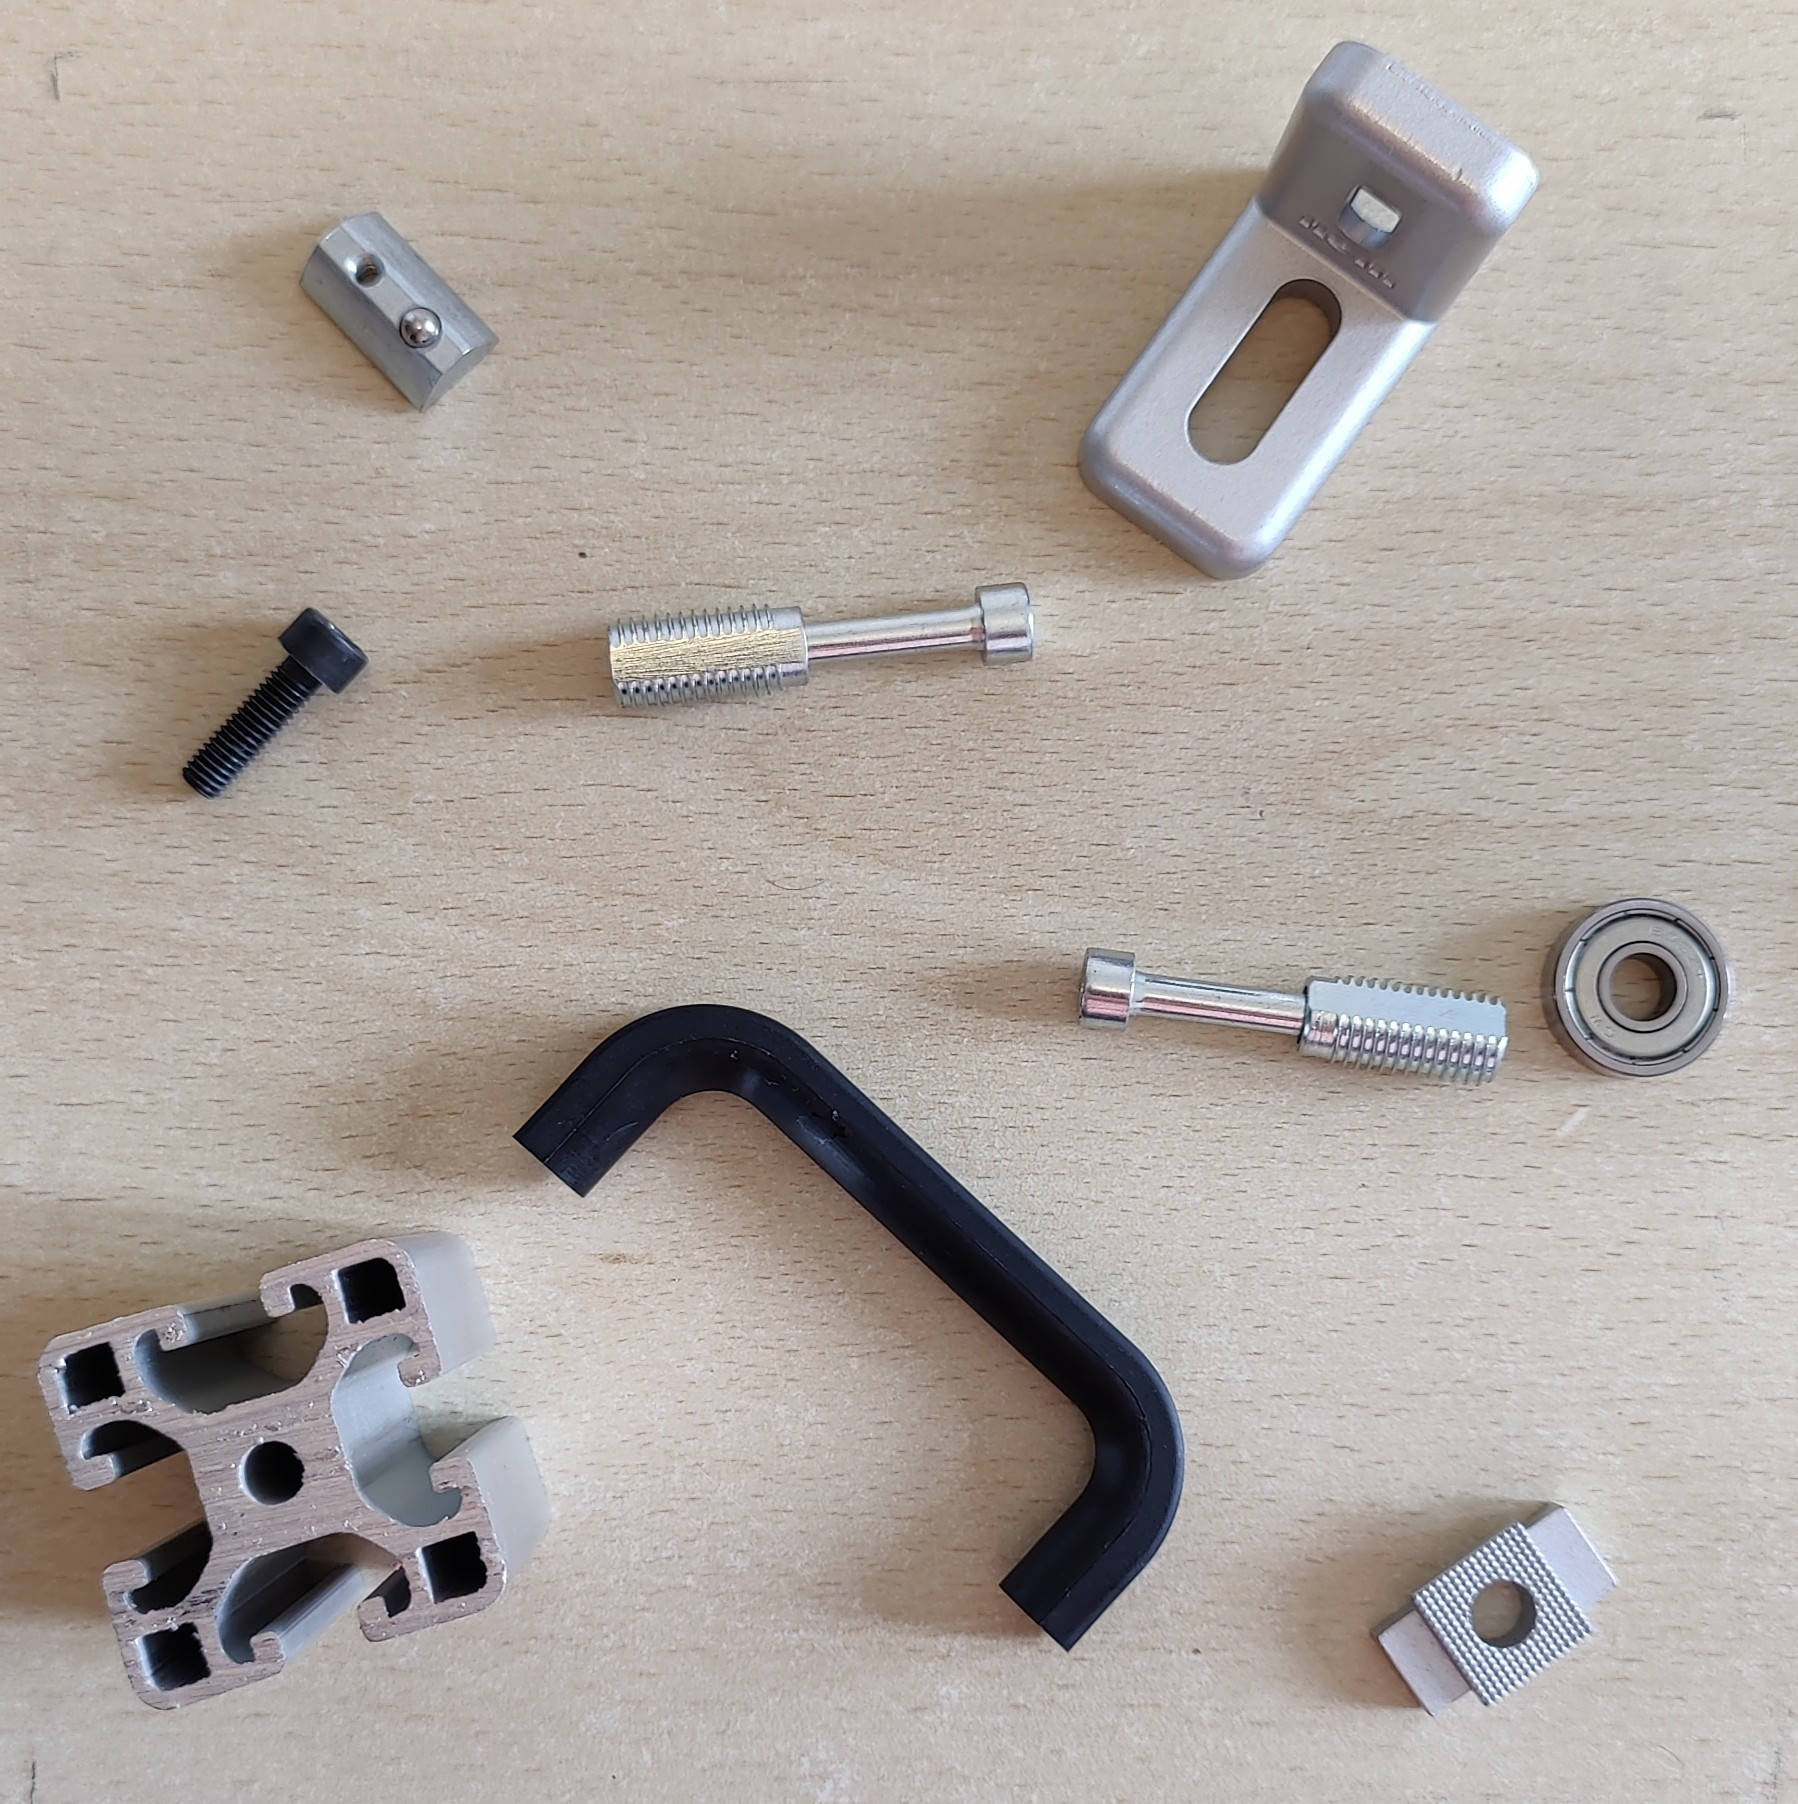Aluminium Extension: (35, 1230, 552, 1713)
Ball Bearing: (1539, 897, 1732, 1081)
Multiwinkel: (1077, 40, 1543, 584)
Pull Handle: (510, 1001, 1187, 1654)
Shoulder Socket Head Cap Screw: (1074, 942, 1512, 1091), (604, 578, 1041, 714)
Socket Head Cap Screw: (181, 602, 372, 802)
T Nut Square: (1368, 1499, 1622, 1718)
T Spring Nut: (296, 211, 502, 415)
